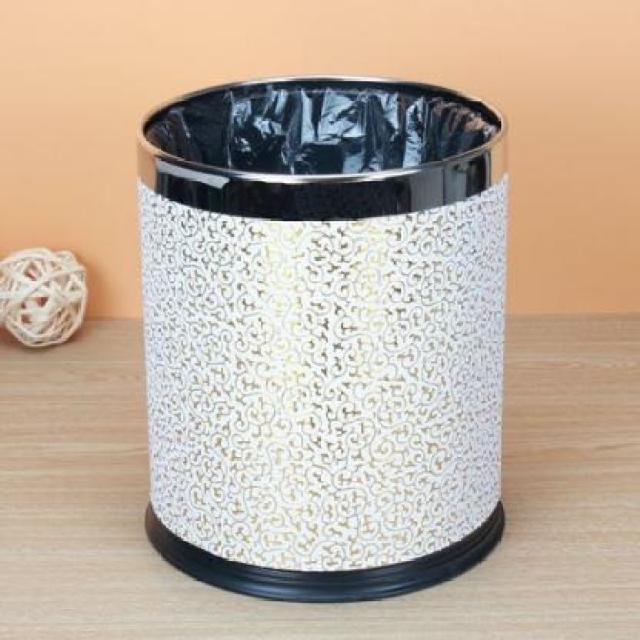dustbin: (132, 70, 514, 608)
